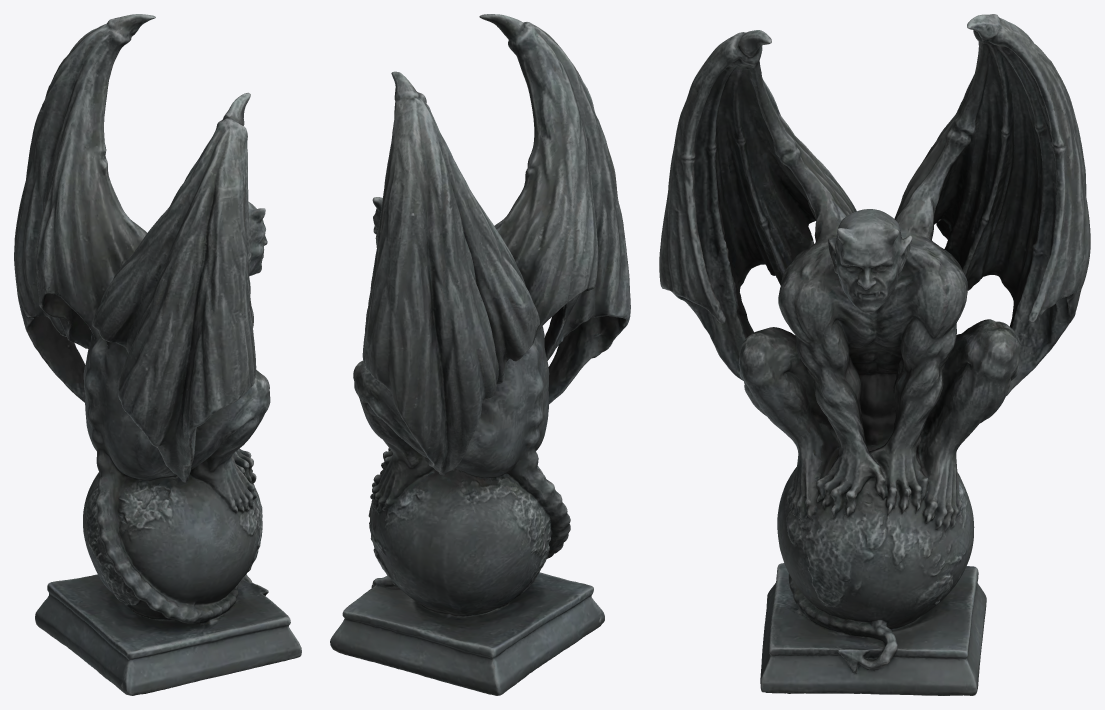
Rendered from gargoyle-transformed.glb.
The picture shows the model from 3 angles, left to right: view 1: azimuth 30°, elevation 25°; view 2: azimuth 150°, elevation 25°; view 3: azimuth 270°, elevation 25°; orthographic projection. The views are drawn at different scales.
Visible parts, largest first — view 1: Object_2; view 2: Object_2; view 3: Object_2.
Boxes of the visible parts, x1,y1,x2,y2 form: Object_2: (14, 14, 301, 695); Object_2: (330, 14, 630, 695); Object_2: (659, 14, 1090, 695).
Size of the model in its own units: 0.1029 by 0.2917 by 0.1767.
1 material, 1 textured.
